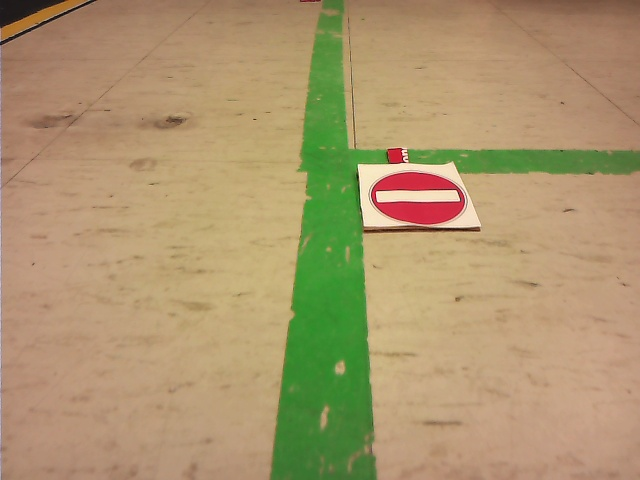NO ENTRY: (374, 173, 470, 224)
